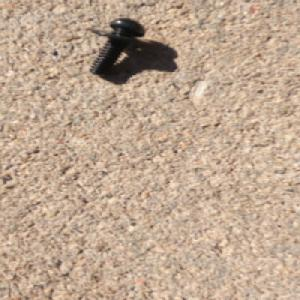BoltWasher: (86, 17, 149, 76)
